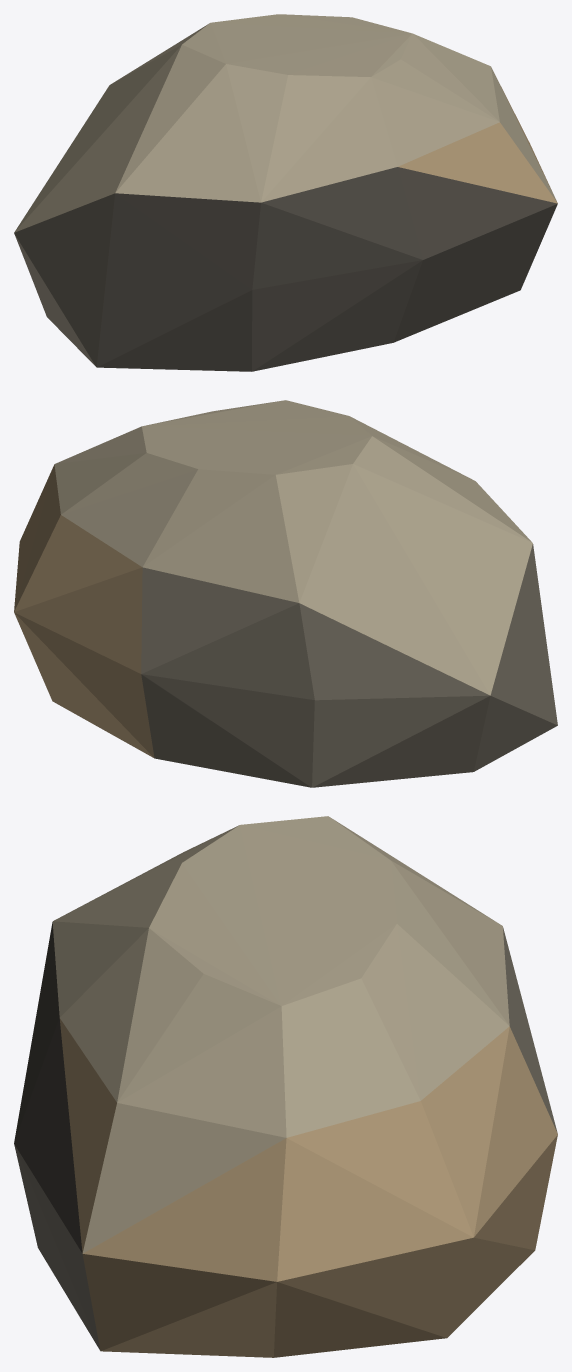
File: TW_ROCK_LOW_WEDGE_A_LOD0.glb
3 renders of one model, top to bottom at view 1: azimuth 30°, elevation 25°; view 2: azimuth 150°, elevation 25°; view 3: azimuth 270°, elevation 25°, orthographic. The views are drawn at different scales.
Visible parts, largest first — view 1: TW_ROCK_LOW_WEDGE_A_LOD0; view 2: TW_ROCK_LOW_WEDGE_A_LOD0; view 3: TW_ROCK_LOW_WEDGE_A_LOD0.
Part boxes in pixels (x1,y1,x2,y2): TW_ROCK_LOW_WEDGE_A_LOD0: [14, 14, 557, 371]; TW_ROCK_LOW_WEDGE_A_LOD0: [14, 400, 557, 787]; TW_ROCK_LOW_WEDGE_A_LOD0: [14, 816, 557, 1357].
Bounding box in the file's own units: 1.3 × 0.65 × 0.9.
Materials: 1 (1 with a texture image).
